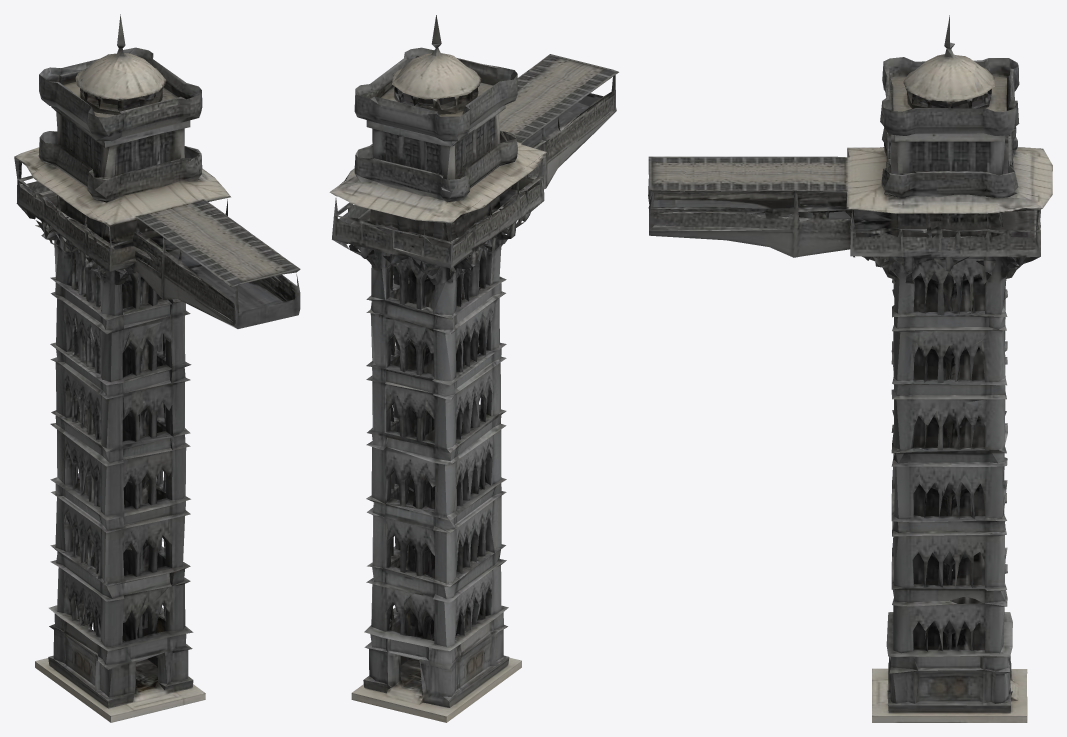
Rendered from elevador.glb.
3 renders of one model, left to right at view 1: azimuth 30°, elevation 25°; view 2: azimuth 150°, elevation 25°; view 3: azimuth 270°, elevation 25°, orthographic. The views are drawn at different scales.
Visible parts, largest first — view 1: elevador; view 2: elevador; view 3: elevador.
Part boxes in pixels (bbox=[...]): elevador: bbox=[14, 14, 300, 722]; elevador: bbox=[329, 15, 618, 722]; elevador: bbox=[648, 15, 1052, 722].
Size of the model in its own units: 0.4256 by 2 by 1.07.
Materials: 1 (1 with a texture image).
